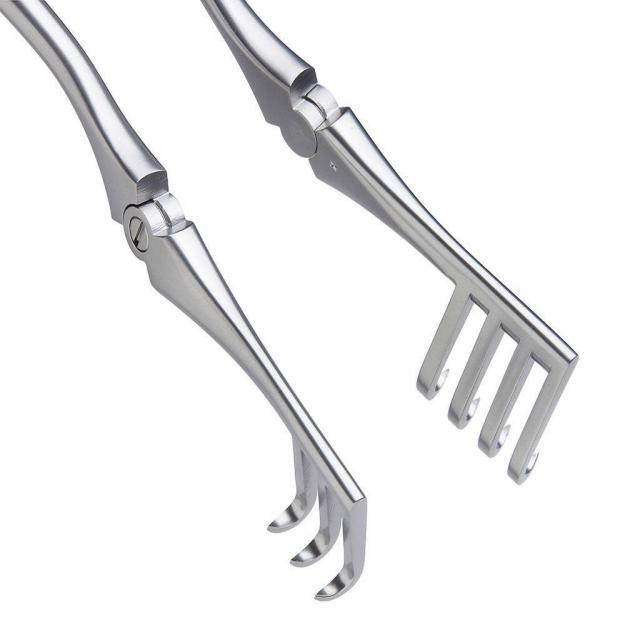Weitlaner: (0, 0, 583, 607)
